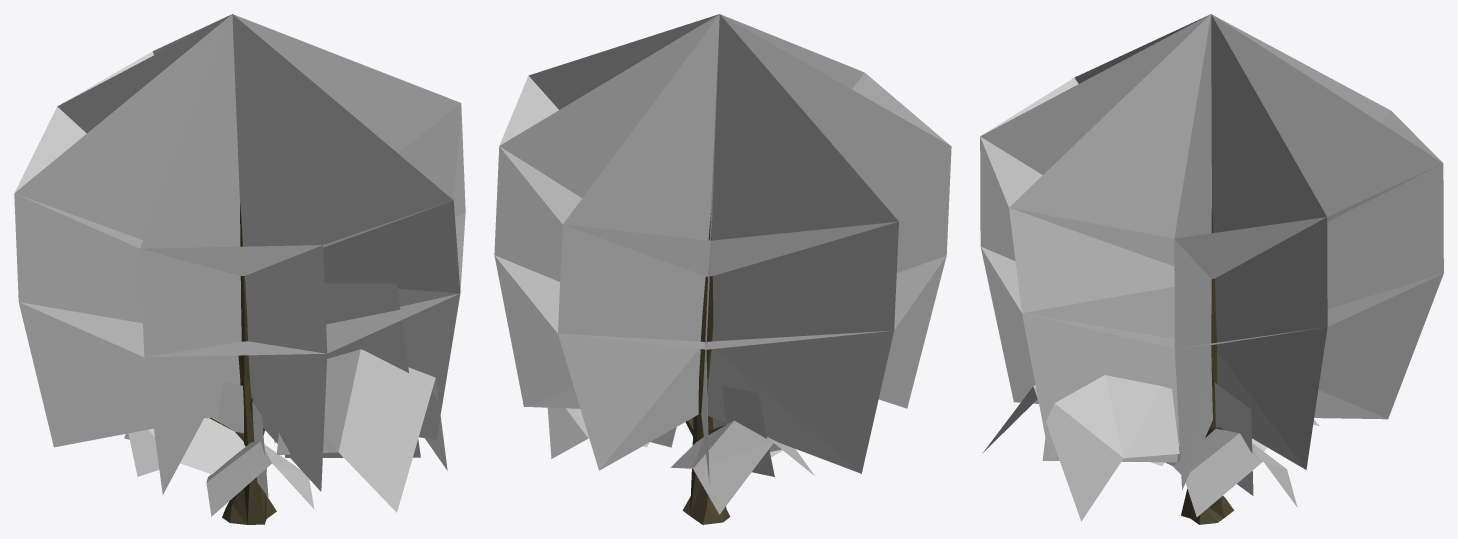
File: ADDON_PLANTS_TREE_01_353P.OBJ
The picture shows the model from 3 angles, left to right: view 1: azimuth 30°, elevation 25°; view 2: azimuth 150°, elevation 25°; view 3: azimuth 270°, elevation 25°; orthographic projection.
Parts seen in each view (by area): view 1: ADDON_PLANTS_TREE_01_353P; view 2: ADDON_PLANTS_TREE_01_353P; view 3: ADDON_PLANTS_TREE_01_353P.
Boxes of the visible parts, x1,y1,x2,y2 form: ADDON_PLANTS_TREE_01_353P: (14, 14, 465, 524); ADDON_PLANTS_TREE_01_353P: (494, 14, 951, 524); ADDON_PLANTS_TREE_01_353P: (980, 14, 1443, 524).
Bounding box in the file's own units: 29.59 × 34.49 × 29.31.
